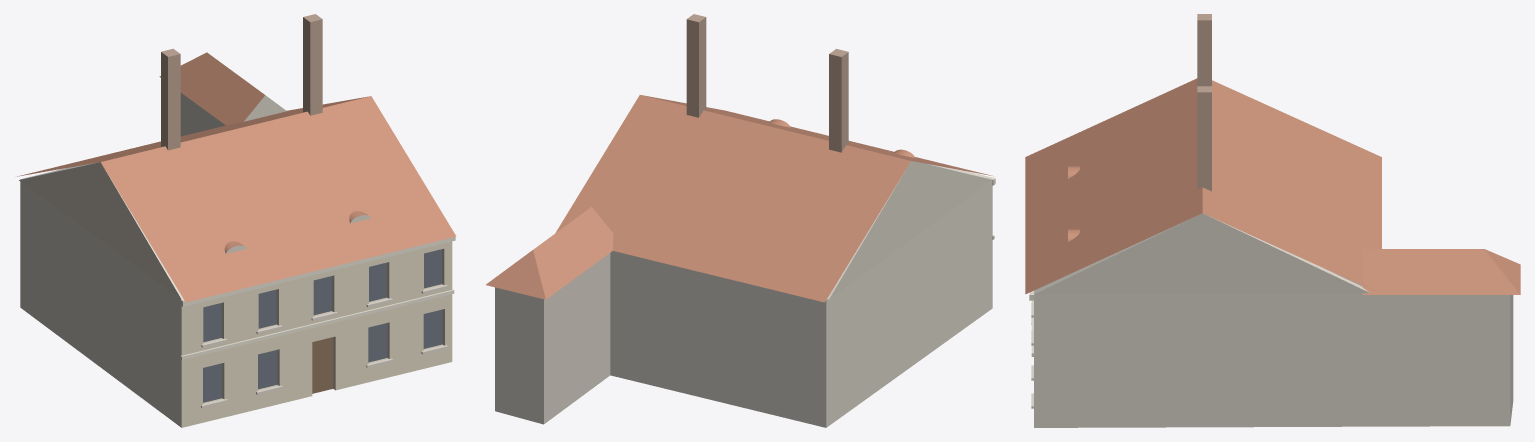
3 views of the same model, side by side, from view 1: azimuth 30°, elevation 25°; view 2: azimuth 150°, elevation 25°; view 3: azimuth 270°, elevation 25° (orthographic). The views are drawn at different scales.
Parts seen in each view (by area): view 1: CP_265_Masonry, CP_265_Roof, CP_265_Gable_L_gable, CP_265_WingRoof_Rear_Wing, CP_265_Chimney_0, CP_265_Chimney_1, CP_265_Cornice_string_0, CP_265_Cornice_eave_0; view 2: CP_265_Masonry, CP_265_Roof, CP_265_Gable_L_gable, CP_265_WingRoof_Rear_Wing, CP_265_Chimney_1, CP_265_Chimney_0; view 3: CP_265_Masonry, CP_265_Roof, CP_265_Gable_R_gable, CP_265_WingRoof_Rear_Wing, CP_265_Chimney_1, CP_265_Chimney_0.
Part boxes in pixels (<box>): CP_265_Masonry: <box>20,92,452,427</box>; CP_265_Roof: <box>17,96,456,302</box>; CP_265_Gable_L_gable: <box>19,162,183,299</box>; CP_265_WingRoof_Rear_Wing: <box>159,52,286,125</box>; CP_265_Chimney_0: <box>161,48,180,150</box>; CP_265_Chimney_1: <box>303,14,322,115</box>; CP_265_Cornice_string_0: <box>180,289,454,359</box>; CP_265_Cornice_eave_0: <box>180,237,455,306</box>; CP_265_Masonry: <box>495,161,992,427</box>; CP_265_Roof: <box>555,95,993,302</box>; CP_265_Gable_L_gable: <box>827,161,992,299</box>; CP_265_WingRoof_Rear_Wing: <box>486,207,613,299</box>; CP_265_Chimney_1: <box>686,14,706,117</box>; CP_265_Chimney_0: <box>829,49,848,152</box>; CP_265_Masonry: <box>1034,269,1513,427</box>; CP_265_Roof: <box>1025,78,1381,294</box>; CP_265_Gable_R_gable: <box>1034,213,1370,294</box>; CP_265_WingRoof_Rear_Wing: <box>1362,249,1520,294</box>; CP_265_Chimney_1: <box>1197,86,1211,191</box>; CP_265_Chimney_0: <box>1197,14,1211,86</box>.
Size of the model in its own units: 15.35 by 16 by 23.2.
